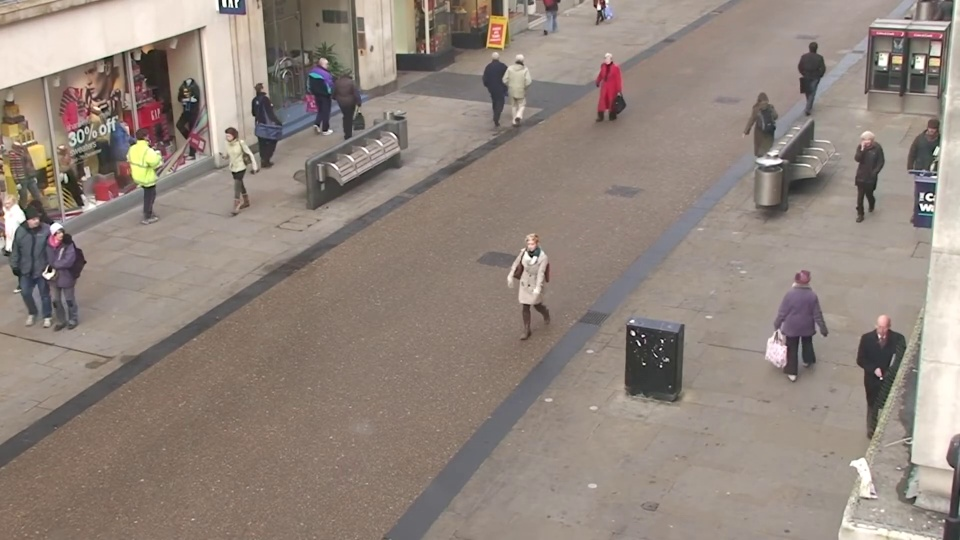pedestrian: (852, 315, 912, 467), (28, 221, 86, 343), (3, 209, 62, 327), (7, 199, 65, 314), (780, 257, 829, 390), (508, 230, 549, 357), (900, 122, 947, 223), (842, 129, 884, 230), (135, 123, 176, 218), (207, 129, 246, 226), (748, 84, 780, 172), (254, 77, 286, 161), (338, 63, 368, 143), (797, 36, 828, 113), (313, 53, 342, 129), (510, 47, 537, 124), (588, 53, 614, 132), (486, 44, 513, 120)
